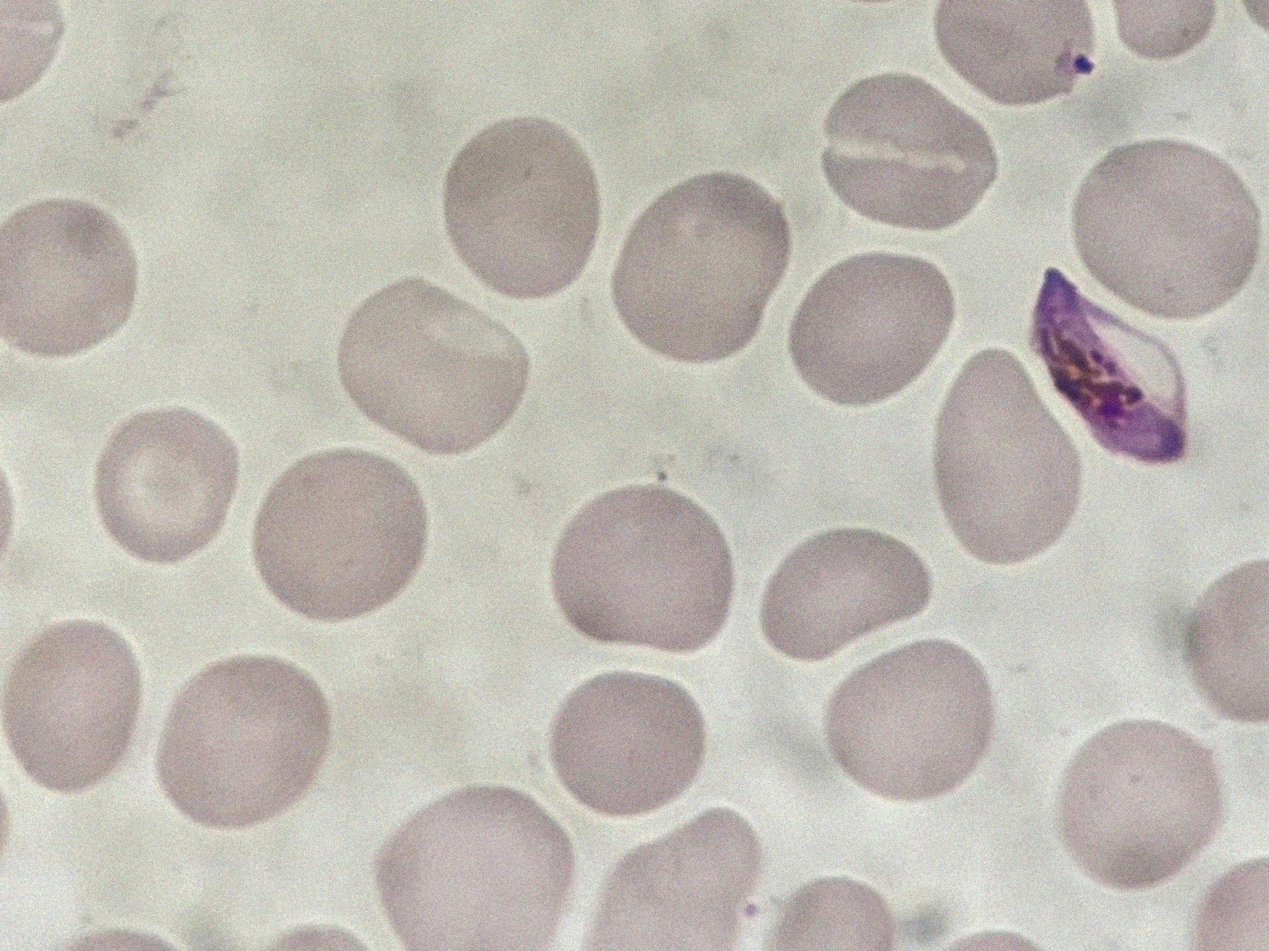Infected: (1031, 263, 1189, 473), (932, 0, 1103, 107)
Uninfected: (611, 174, 788, 366), (334, 283, 531, 453), (1072, 137, 1256, 318), (378, 785, 574, 951), (935, 349, 1083, 565), (552, 481, 734, 654), (253, 448, 430, 623), (155, 653, 331, 828), (823, 71, 1001, 235), (1056, 719, 1223, 893), (443, 118, 599, 296), (825, 638, 996, 800), (790, 251, 954, 408), (0, 620, 143, 791), (588, 808, 759, 951), (758, 527, 933, 660), (91, 408, 237, 564), (0, 197, 141, 358), (547, 671, 703, 816)
